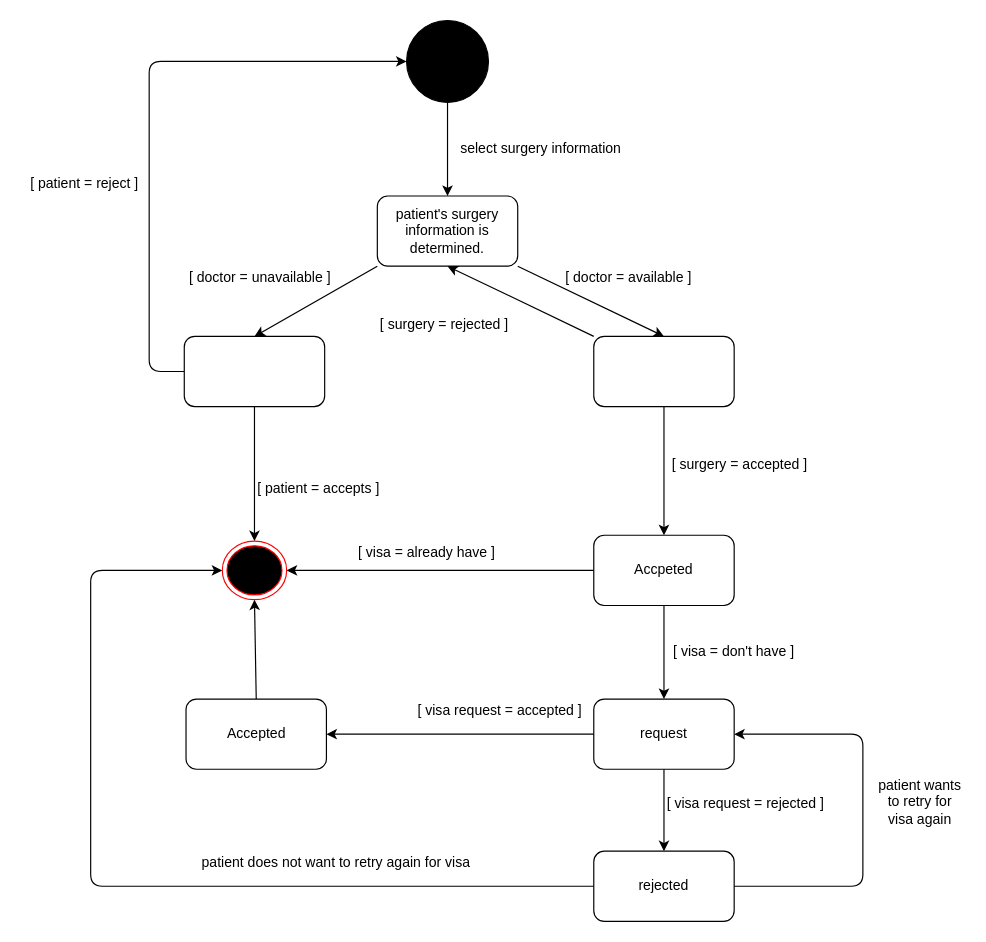
This 986x942 diagram has some shape labels left out. The shapes that lost their labels are listed below. From the top down, each one's centre as x and y in pixels, then its label:
At (x=254, y=371): "waiting queue".
At (x=663, y=371): "online visit".
